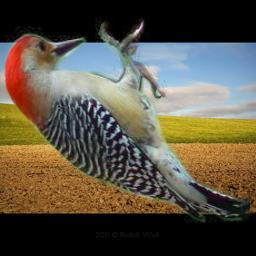Woodpecker: (0, 18, 250, 227)
